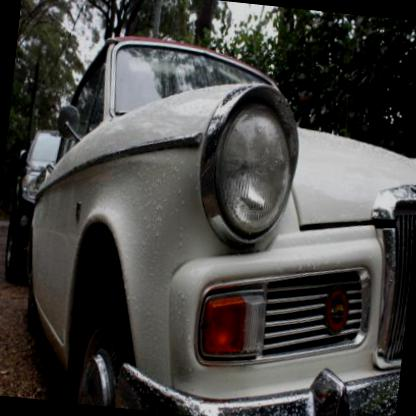car: (9, 29, 415, 415), (4, 126, 64, 283)
